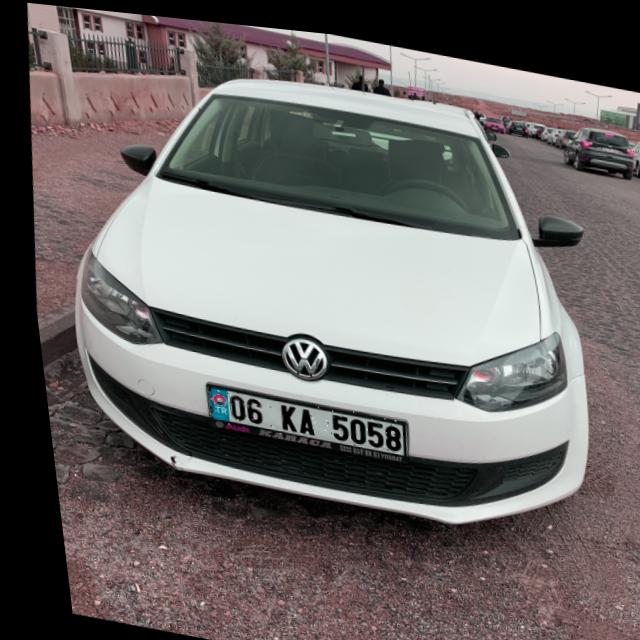license_plate: (196, 380, 399, 450)
